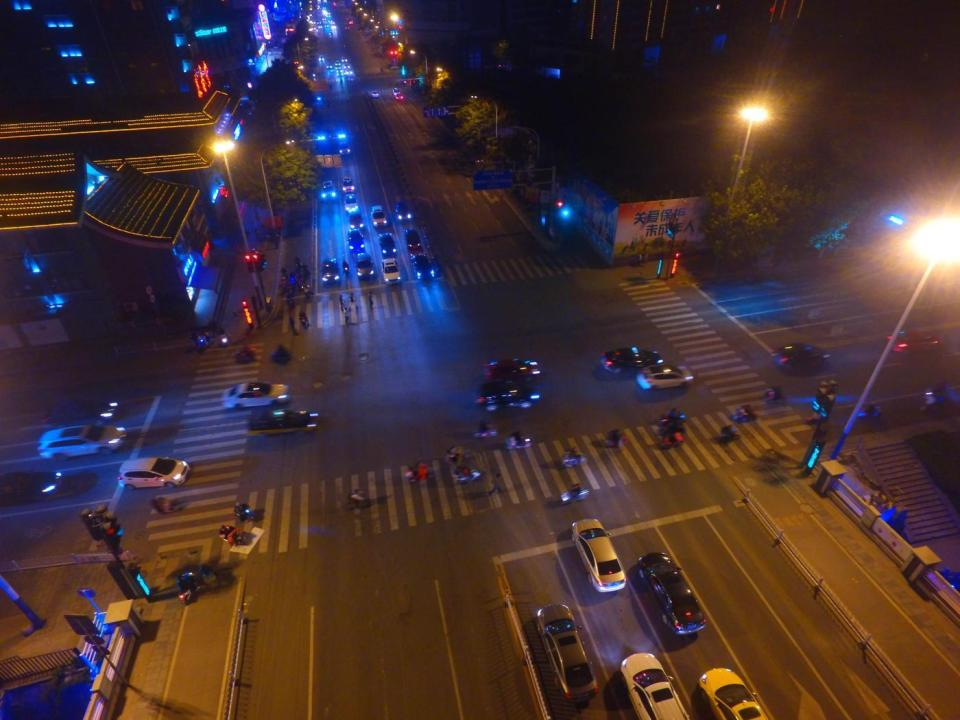car: (534, 603, 600, 700), (636, 552, 707, 636), (617, 648, 692, 720), (570, 519, 627, 594), (698, 664, 768, 720), (36, 424, 126, 462), (117, 454, 191, 488), (476, 376, 540, 412), (218, 380, 289, 410), (598, 345, 662, 376), (246, 407, 319, 434), (38, 400, 122, 422), (768, 342, 830, 371), (634, 362, 694, 391), (482, 358, 542, 383), (889, 328, 944, 354), (409, 252, 436, 280), (380, 257, 402, 285), (346, 226, 366, 256), (355, 251, 375, 280), (377, 231, 397, 259), (321, 257, 341, 283), (394, 199, 413, 222), (403, 226, 421, 249), (344, 192, 359, 215), (322, 180, 336, 200), (341, 174, 355, 192), (338, 141, 350, 155), (370, 90, 380, 98), (392, 86, 400, 96), (395, 92, 404, 100), (336, 70, 344, 78), (340, 56, 348, 63), (345, 68, 352, 76), (317, 54, 324, 61), (325, 62, 333, 68), (334, 60, 341, 66), (344, 63, 350, 70), (336, 67, 342, 73), (334, 66, 340, 69)
van: (347, 206, 366, 231), (370, 204, 388, 228)
